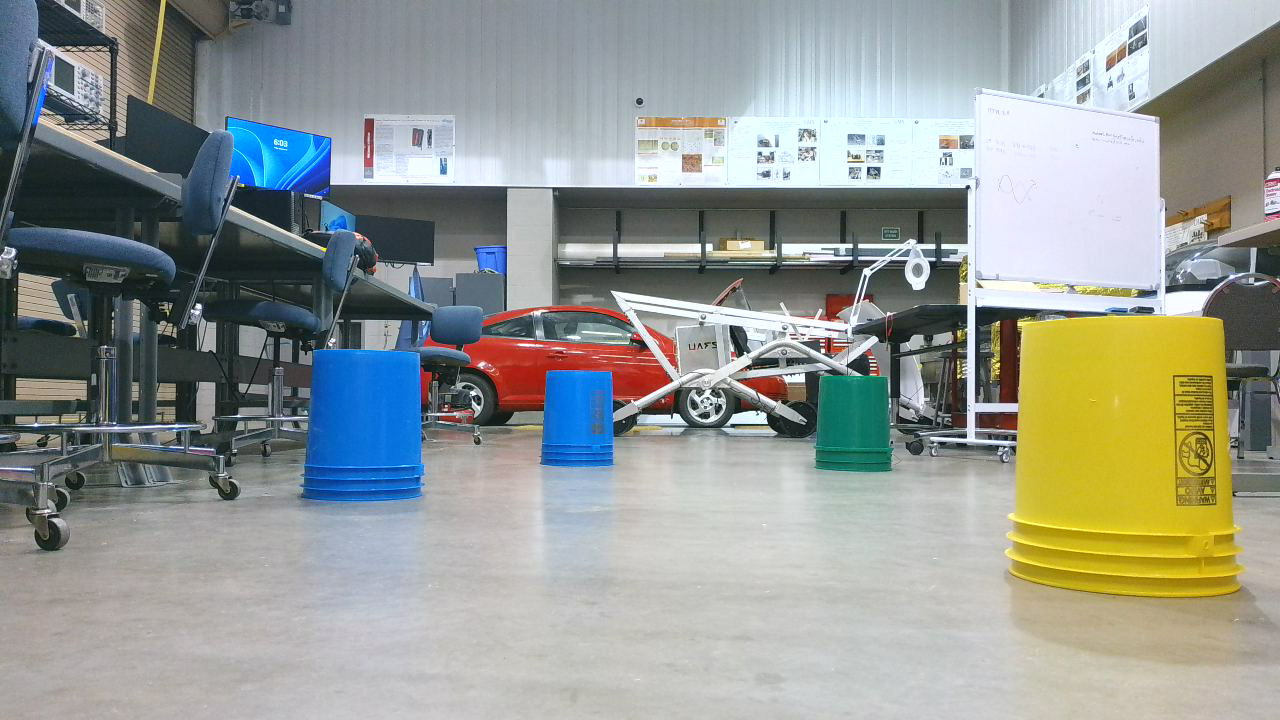blue_bucket: (300, 349, 435, 512), (541, 371, 625, 473)
green_bucket_barrier: (814, 377, 900, 482)
yellow_bucket: (1007, 315, 1264, 609)
